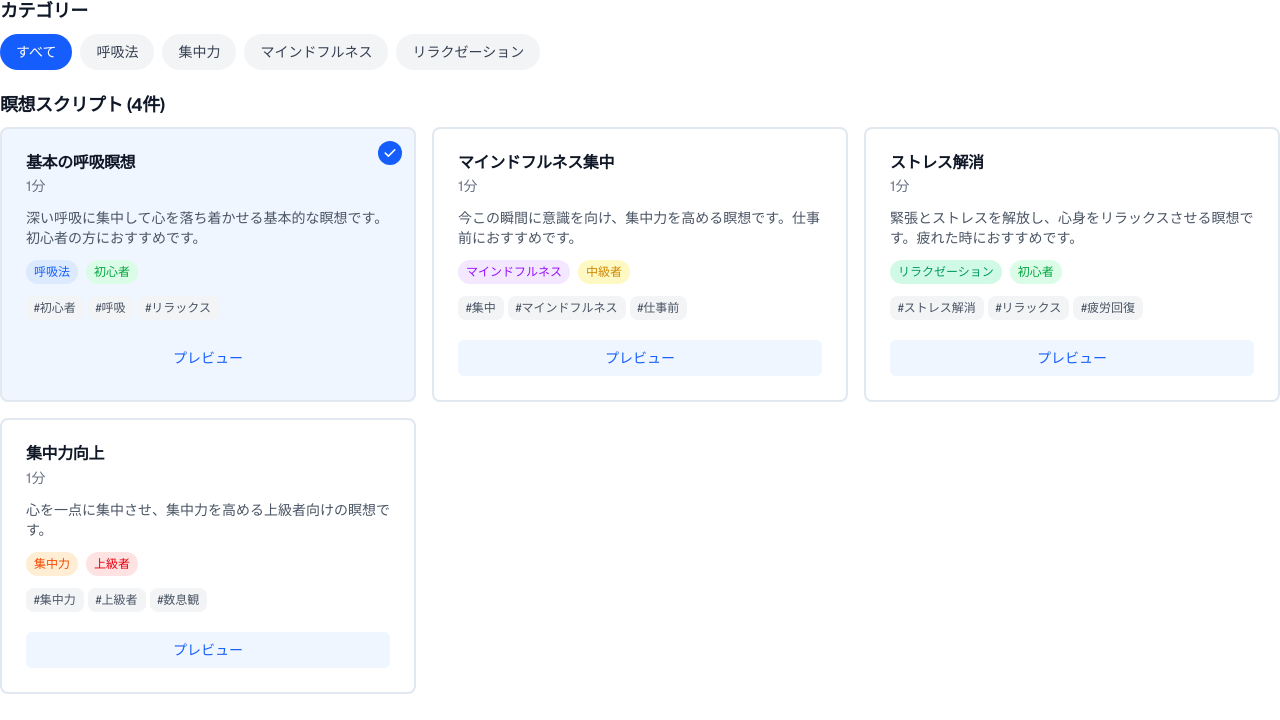
Scenario: ScriptSelector › closes preview modal when close button is clicked
// Open preview
Click the button "プレビュー" below "深い呼吸に集中して心を落ち着かせる基本的な瞑想です。初心者の方におすすめです。" at {"x": 208, "y": 358}, box [26,340,390,376]
(page scrolled)
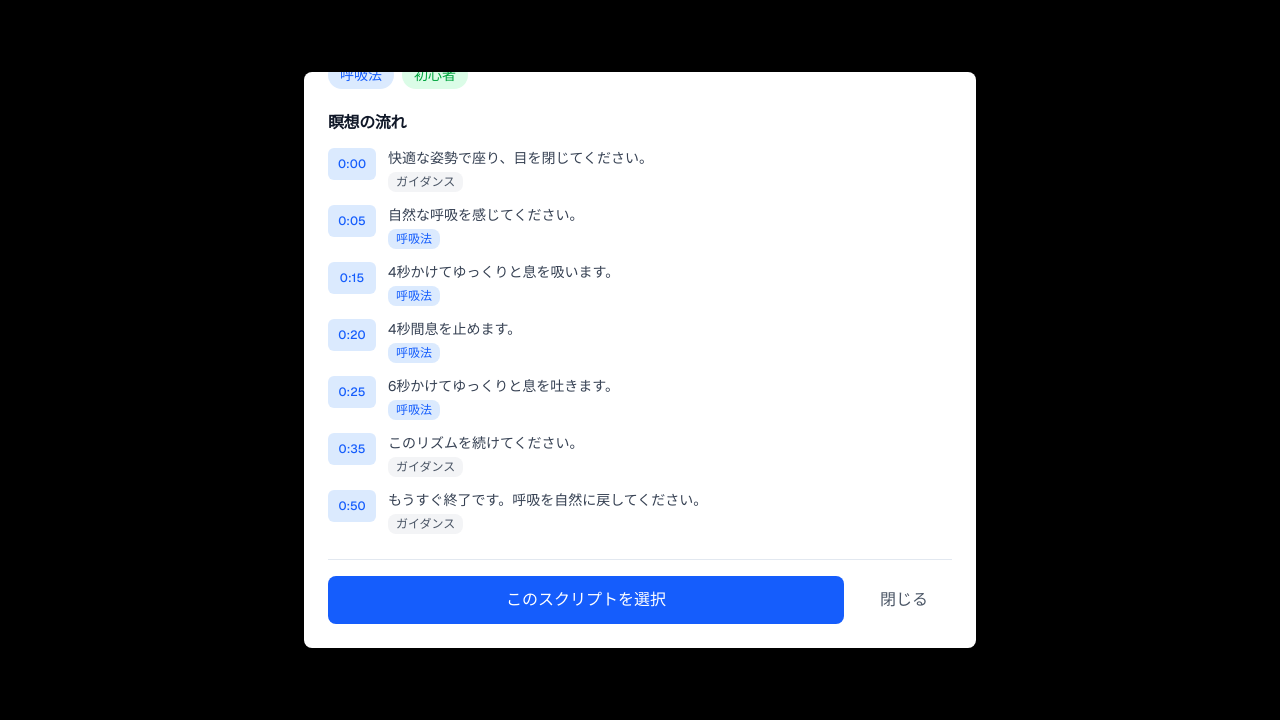
Expected: the heading "瞑想の流れ" is shown, [328,112,406,133]
// Close preview
Click the button "閉じる" at {"x": 904, "y": 600}, box [856,576,952,624]
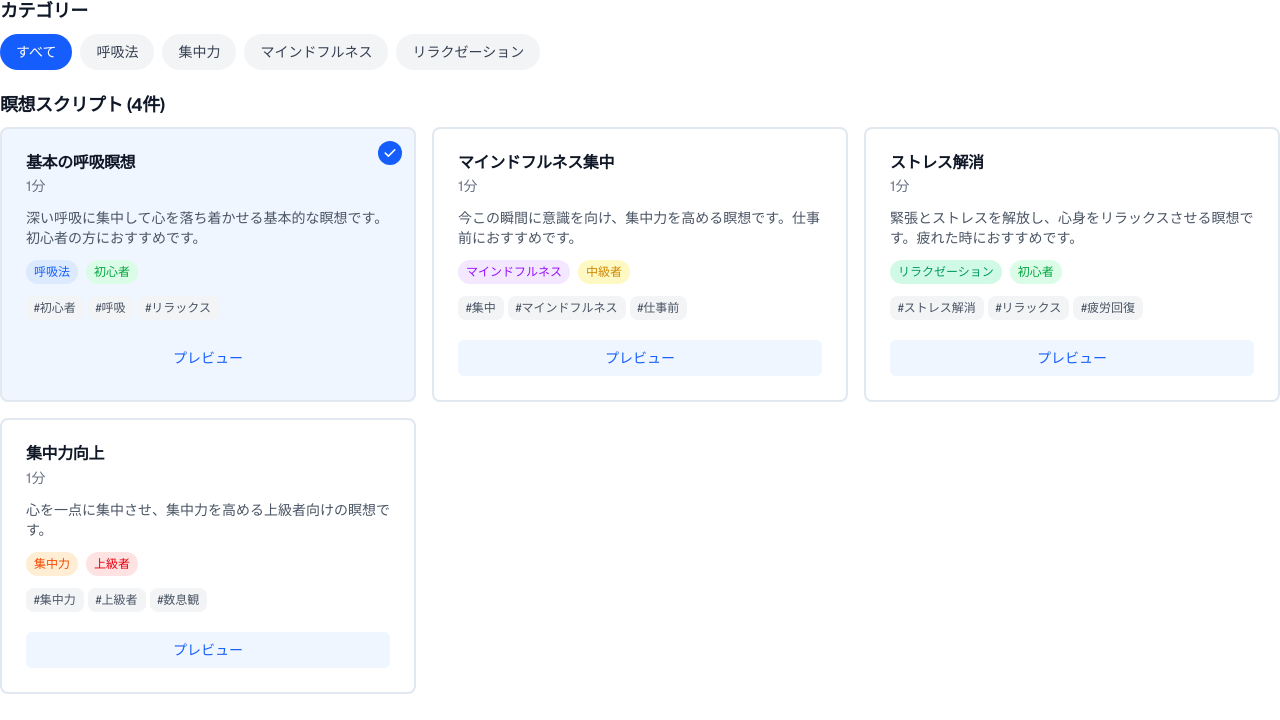
Expected: the heading "瞑想の流れ" is gone
